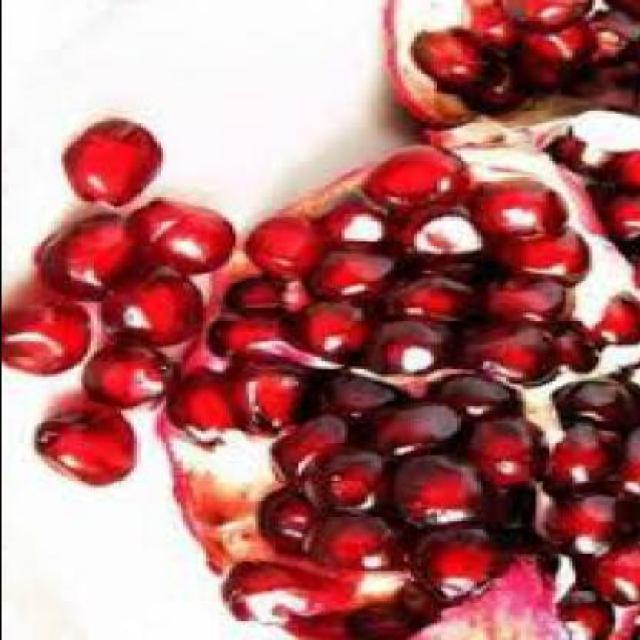BIODEGRADABLE: (158, 112, 638, 640), (378, 2, 638, 140), (32, 217, 156, 306), (128, 202, 238, 281), (66, 123, 165, 209), (40, 406, 138, 489), (3, 300, 92, 377), (109, 276, 205, 347), (82, 344, 178, 410)
